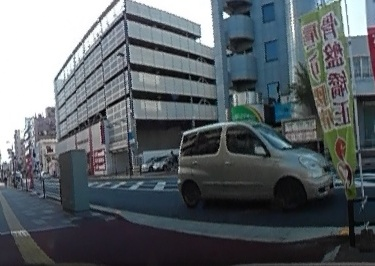person: (168, 149, 177, 168)
